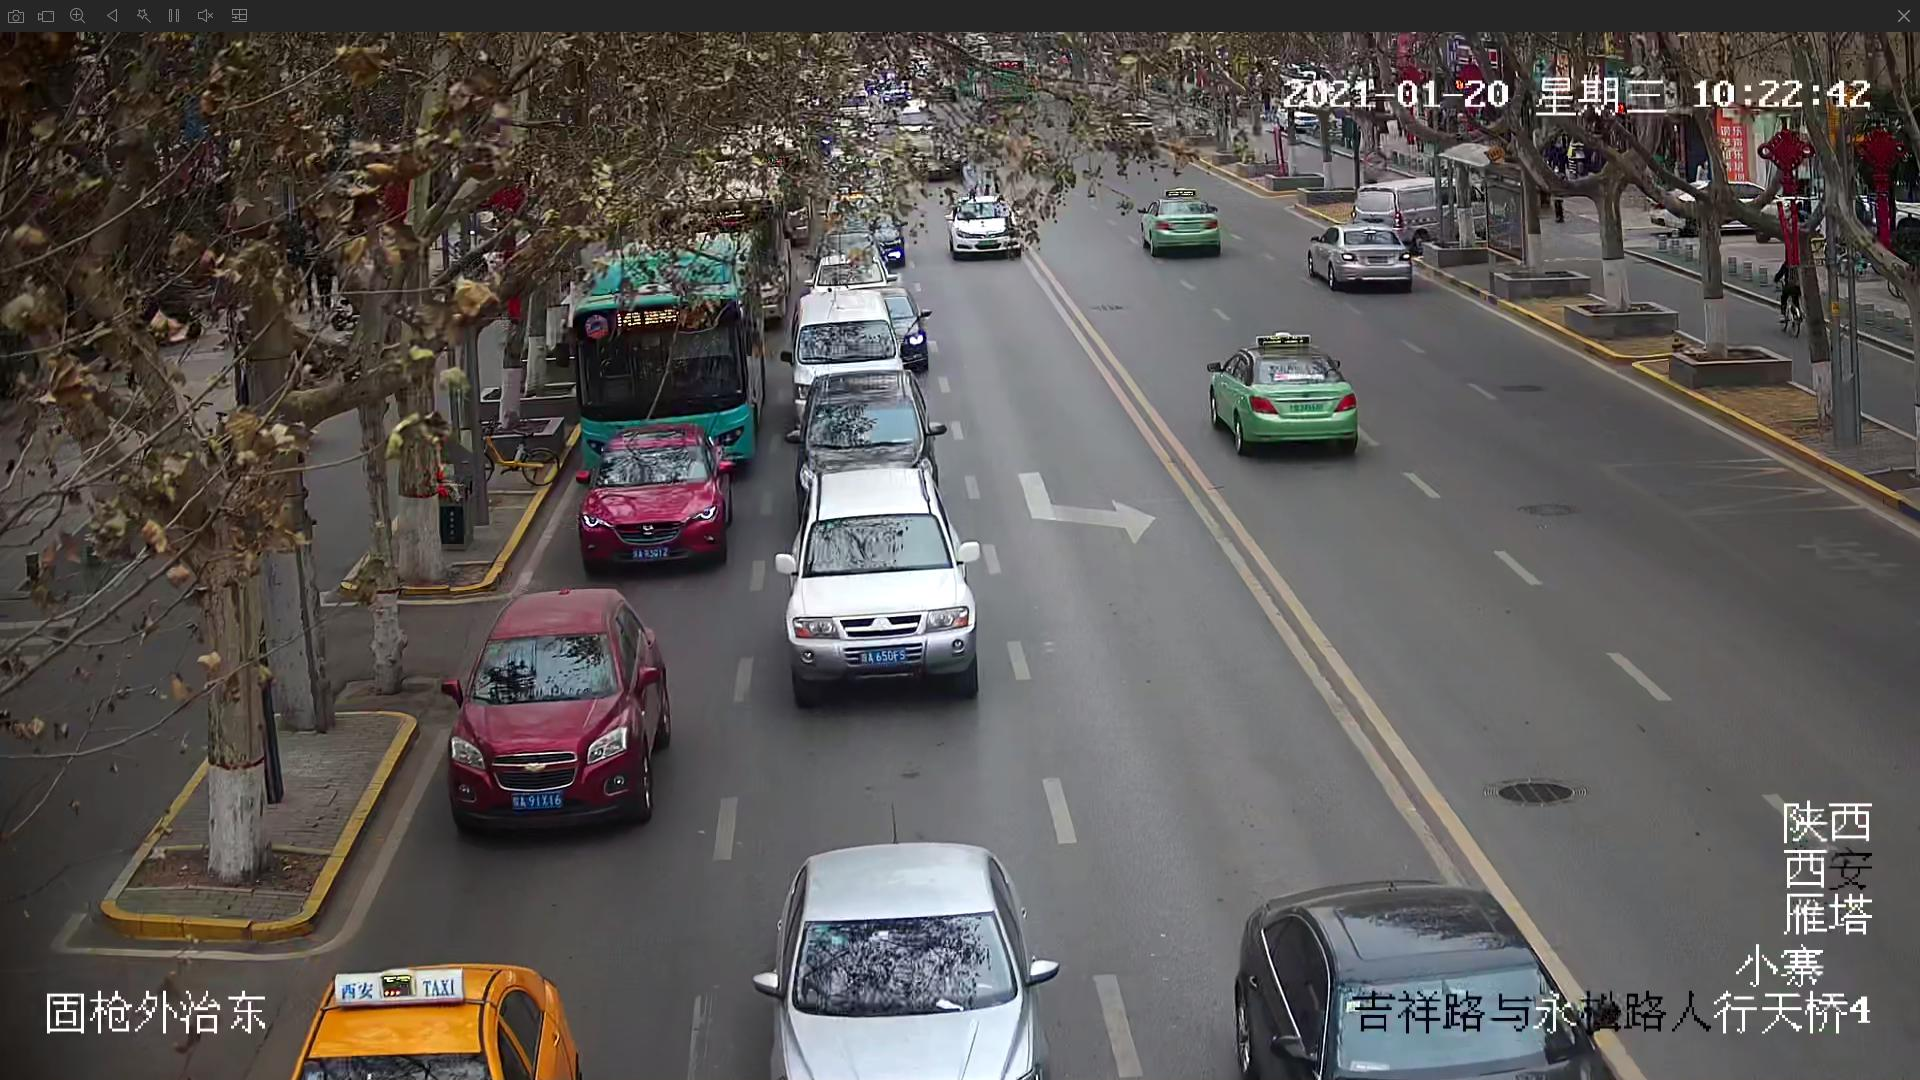red: (440, 589, 661, 844), (575, 419, 727, 574)
silver-gray: (767, 841, 1038, 1080)
white: (775, 469, 981, 684)
